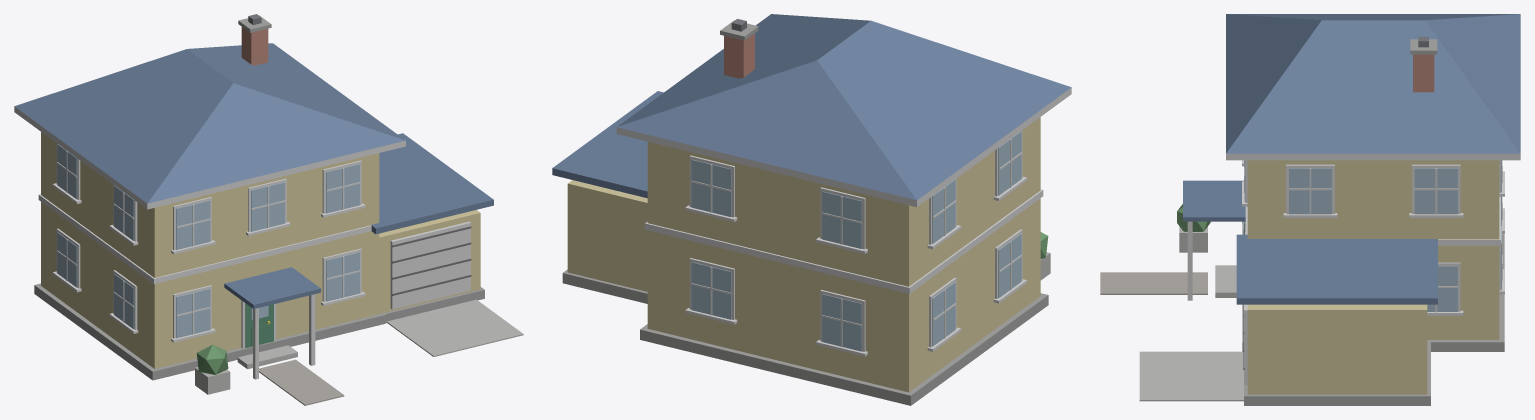
File: Villa_16.glb
3 views of the same model, side by side, from view 1: azimuth 30°, elevation 25°; view 2: azimuth 150°, elevation 25°; view 3: azimuth 270°, elevation 25° (orthographic). The views are drawn at different scales.
Parts seen in each view (by area): view 1: Villa_16; view 2: Villa_16; view 3: Villa_16.
Boxes of the visible parts, left/top/right/bottom form: Villa_16: left=14, top=14, right=523, bottom=405; Villa_16: left=552, top=14, right=1071, bottom=405; Villa_16: left=1100, top=14, right=1520, bottom=405.
Size of the model in its own units: 12.5 by 8.8 by 11.7.
